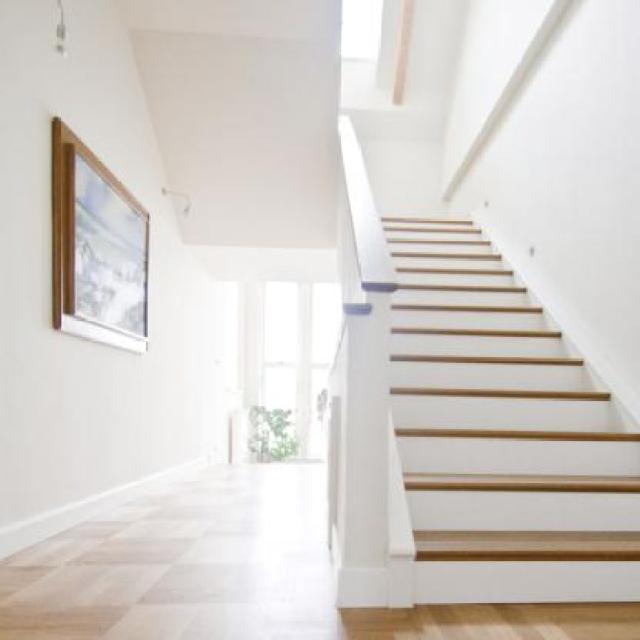stair: (318, 136, 639, 613)
